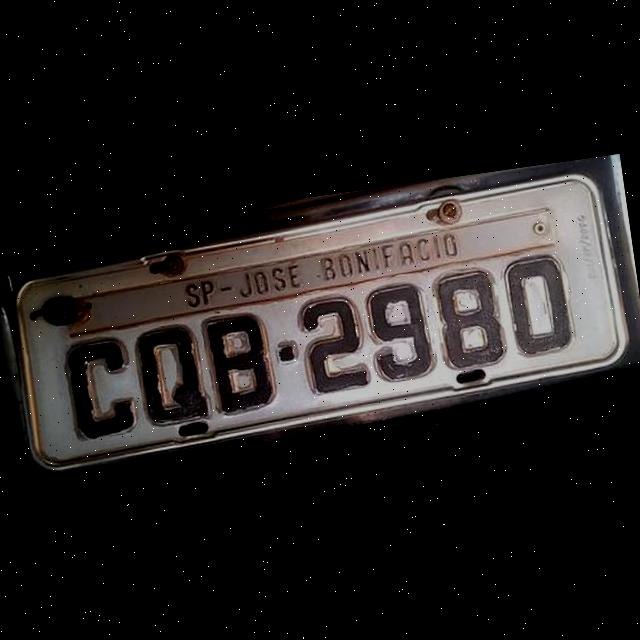Caractere: (428, 263, 513, 375), (58, 332, 142, 442), (498, 247, 578, 360), (292, 290, 374, 400), (131, 320, 213, 430), (199, 306, 279, 417), (358, 277, 437, 386)
Placa: (7, 170, 632, 474)
